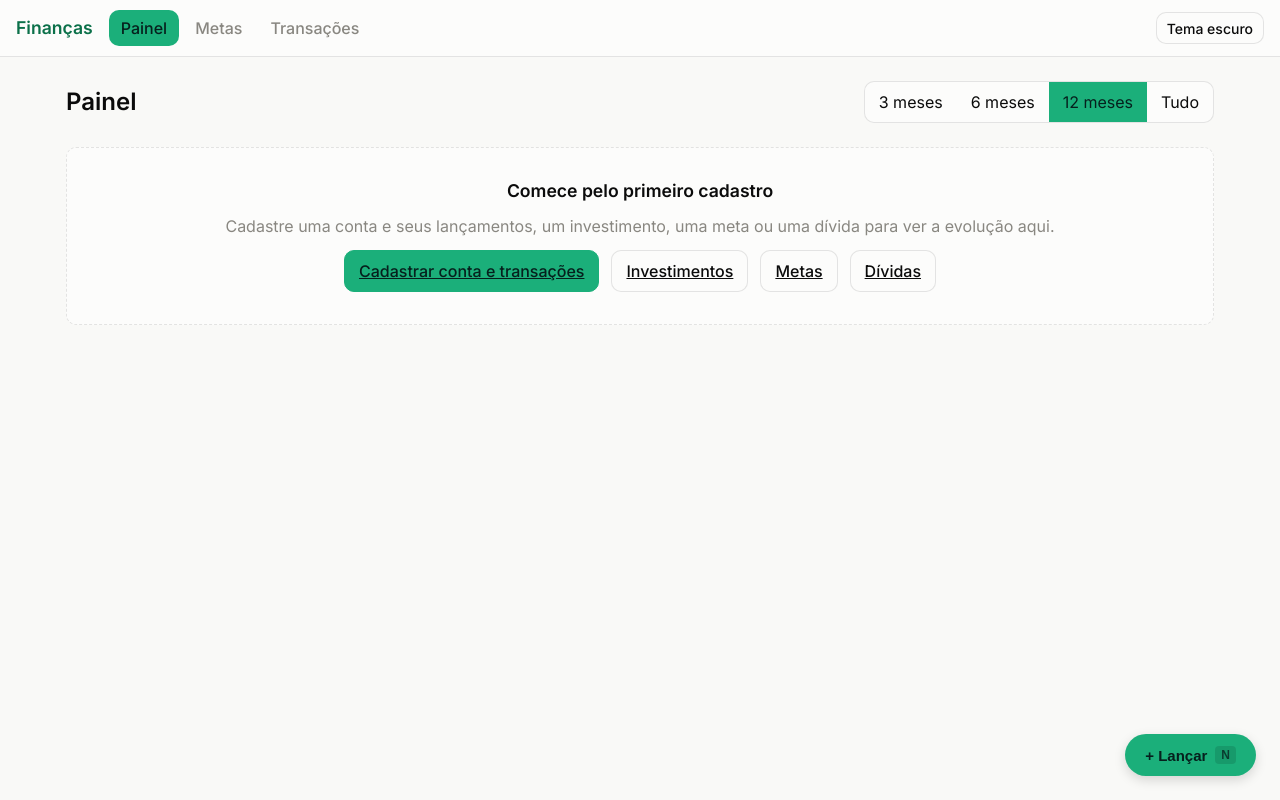
App › navigates between pages
What coordinates should you click on to do the following:
click the link "Metas" in the row of "Finanças"
I would click on:
 (219, 28)
Its box is [195, 18, 242, 38].
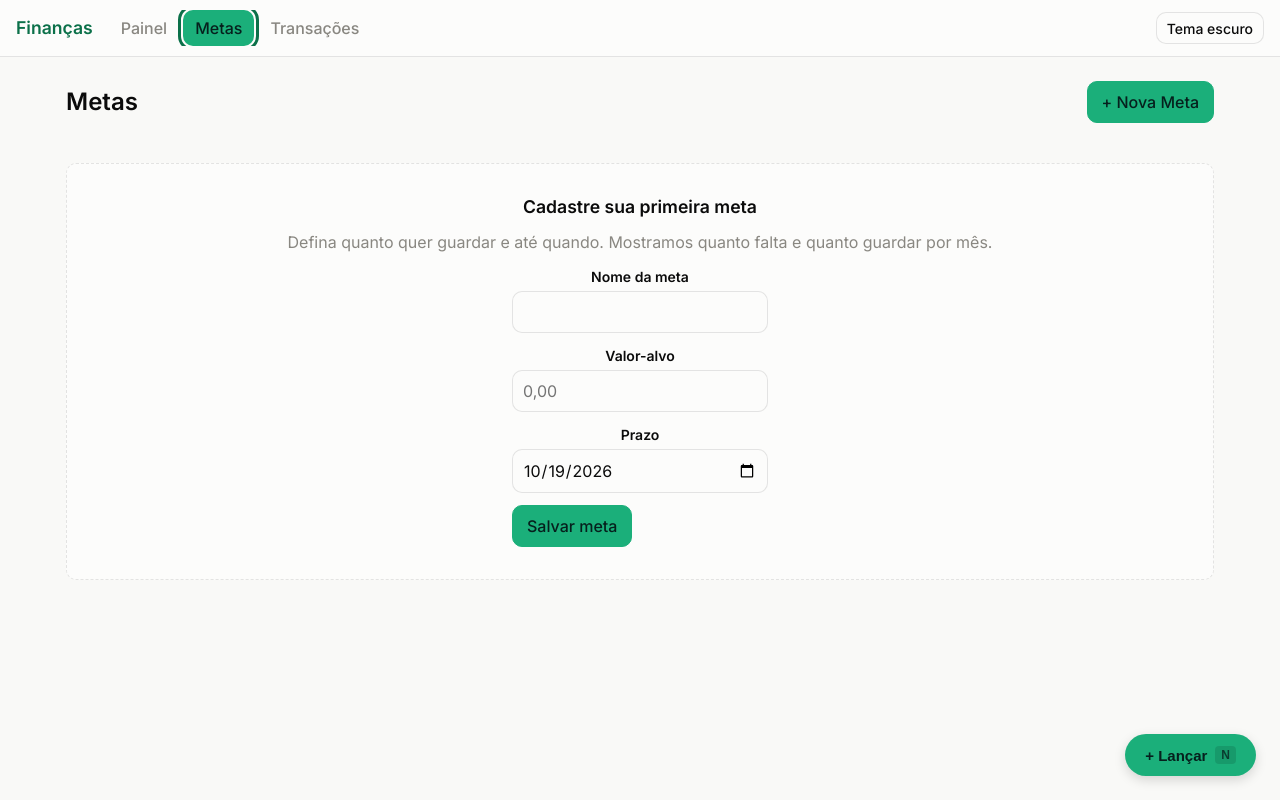
Result: the heading "Metas" is shown at [66, 87, 138, 117]
What coordinates should you click on to do the following:
click the link "Transações"
I would click on:
 (315, 28)
Its box is [270, 18, 359, 38].
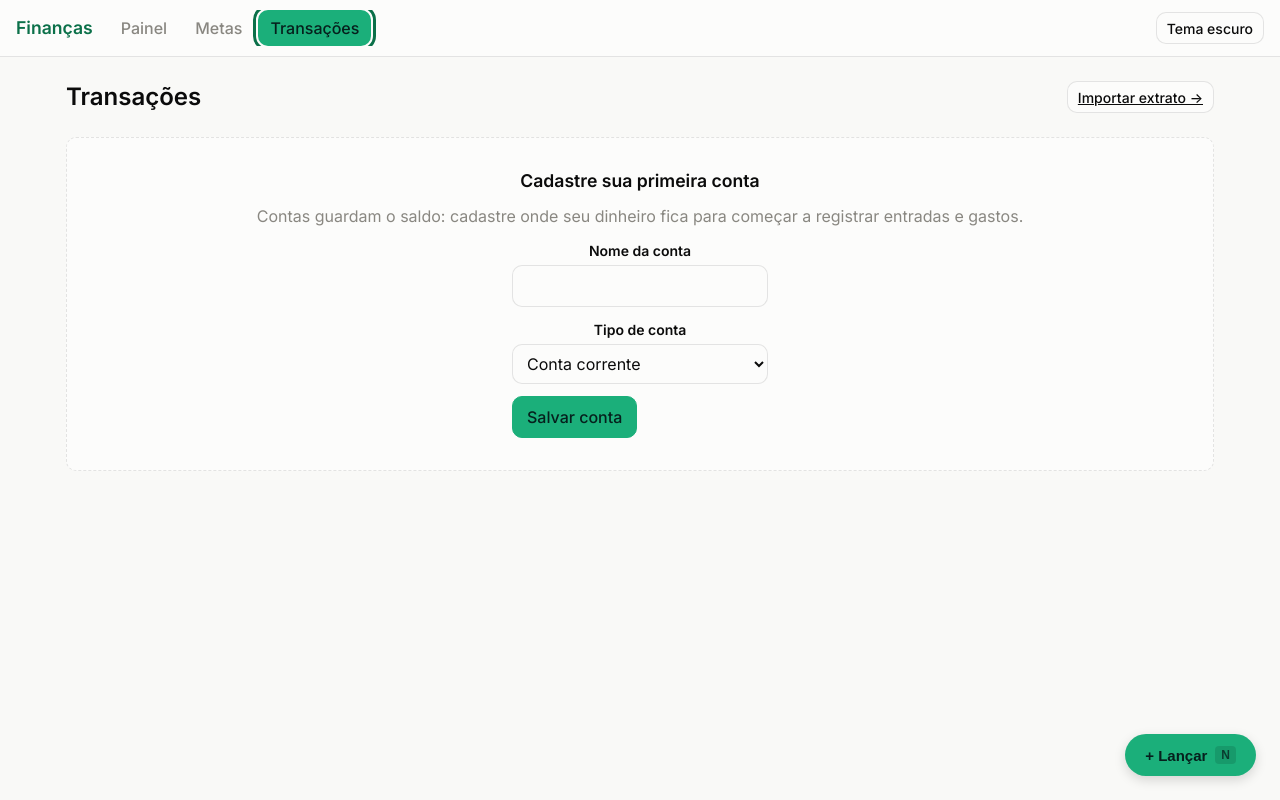
Result: the heading "Transações" is shown at [66, 82, 201, 112]
